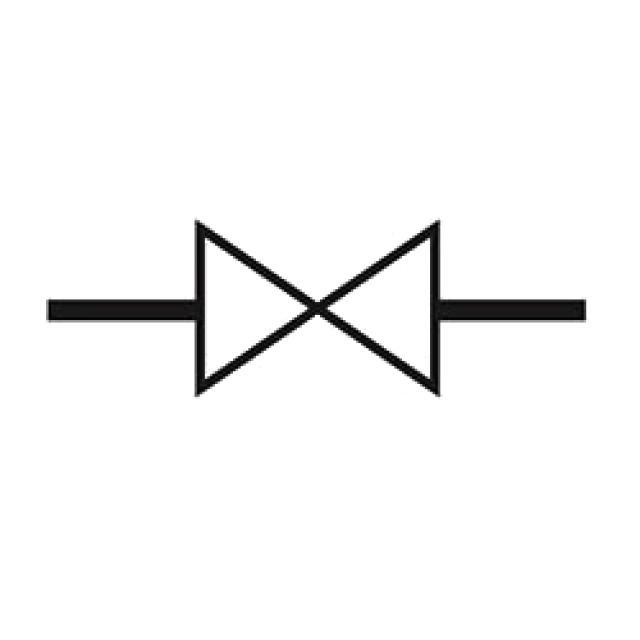Gate Valve: (132, 173, 492, 440)
